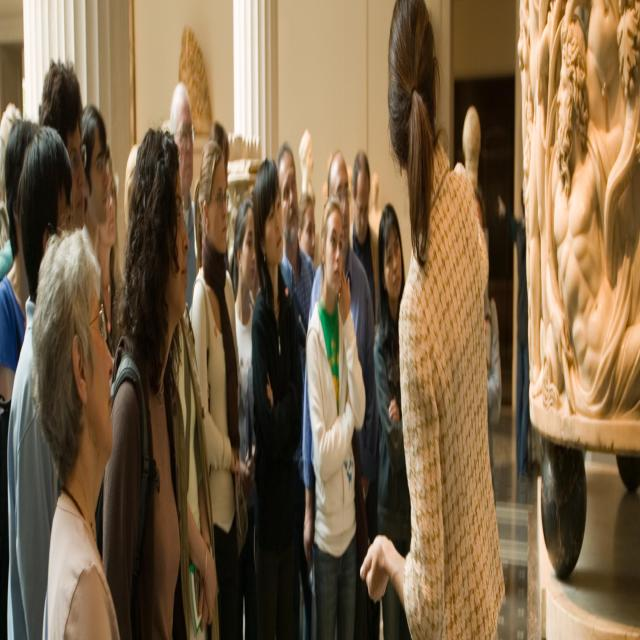body: (355, 0, 505, 639), (122, 140, 220, 638), (102, 124, 191, 640), (3, 121, 76, 640), (33, 222, 121, 640), (303, 143, 376, 640), (303, 185, 367, 639), (250, 146, 307, 639), (189, 137, 242, 640), (275, 140, 317, 640), (371, 201, 411, 640), (348, 147, 381, 640), (228, 195, 258, 639), (0, 87, 33, 435), (87, 51, 123, 320), (471, 179, 503, 437), (39, 43, 85, 192), (170, 82, 197, 315), (516, 184, 534, 493), (298, 129, 318, 261), (211, 110, 233, 154), (343, 154, 355, 231)
